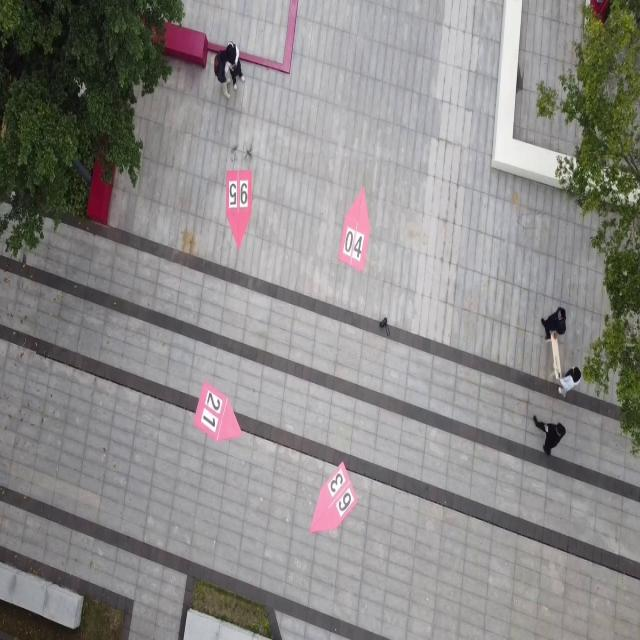-sign-: (216, 156, 266, 253), (307, 454, 361, 538), (192, 371, 245, 454), (337, 184, 376, 278)
